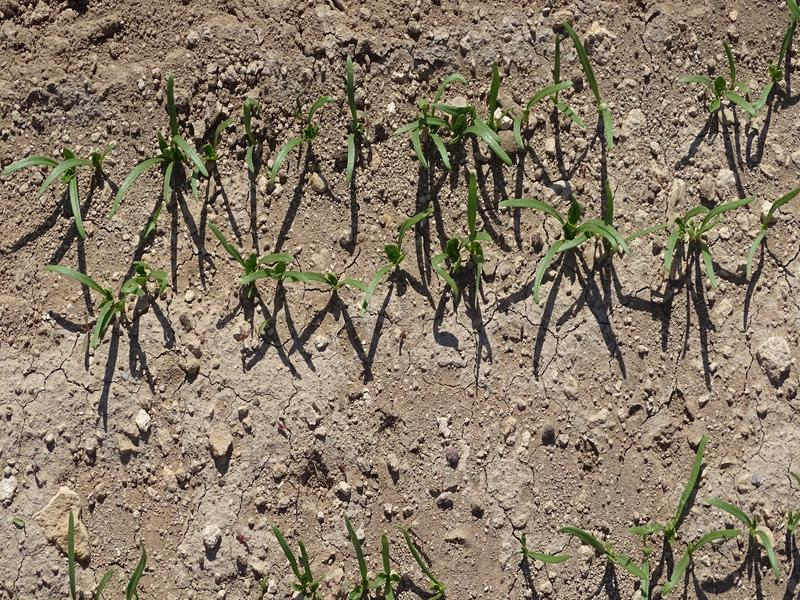Espinaca: (45, 107, 632, 296), (576, 465, 800, 596), (661, 189, 789, 283), (283, 531, 447, 600), (681, 25, 794, 118)
